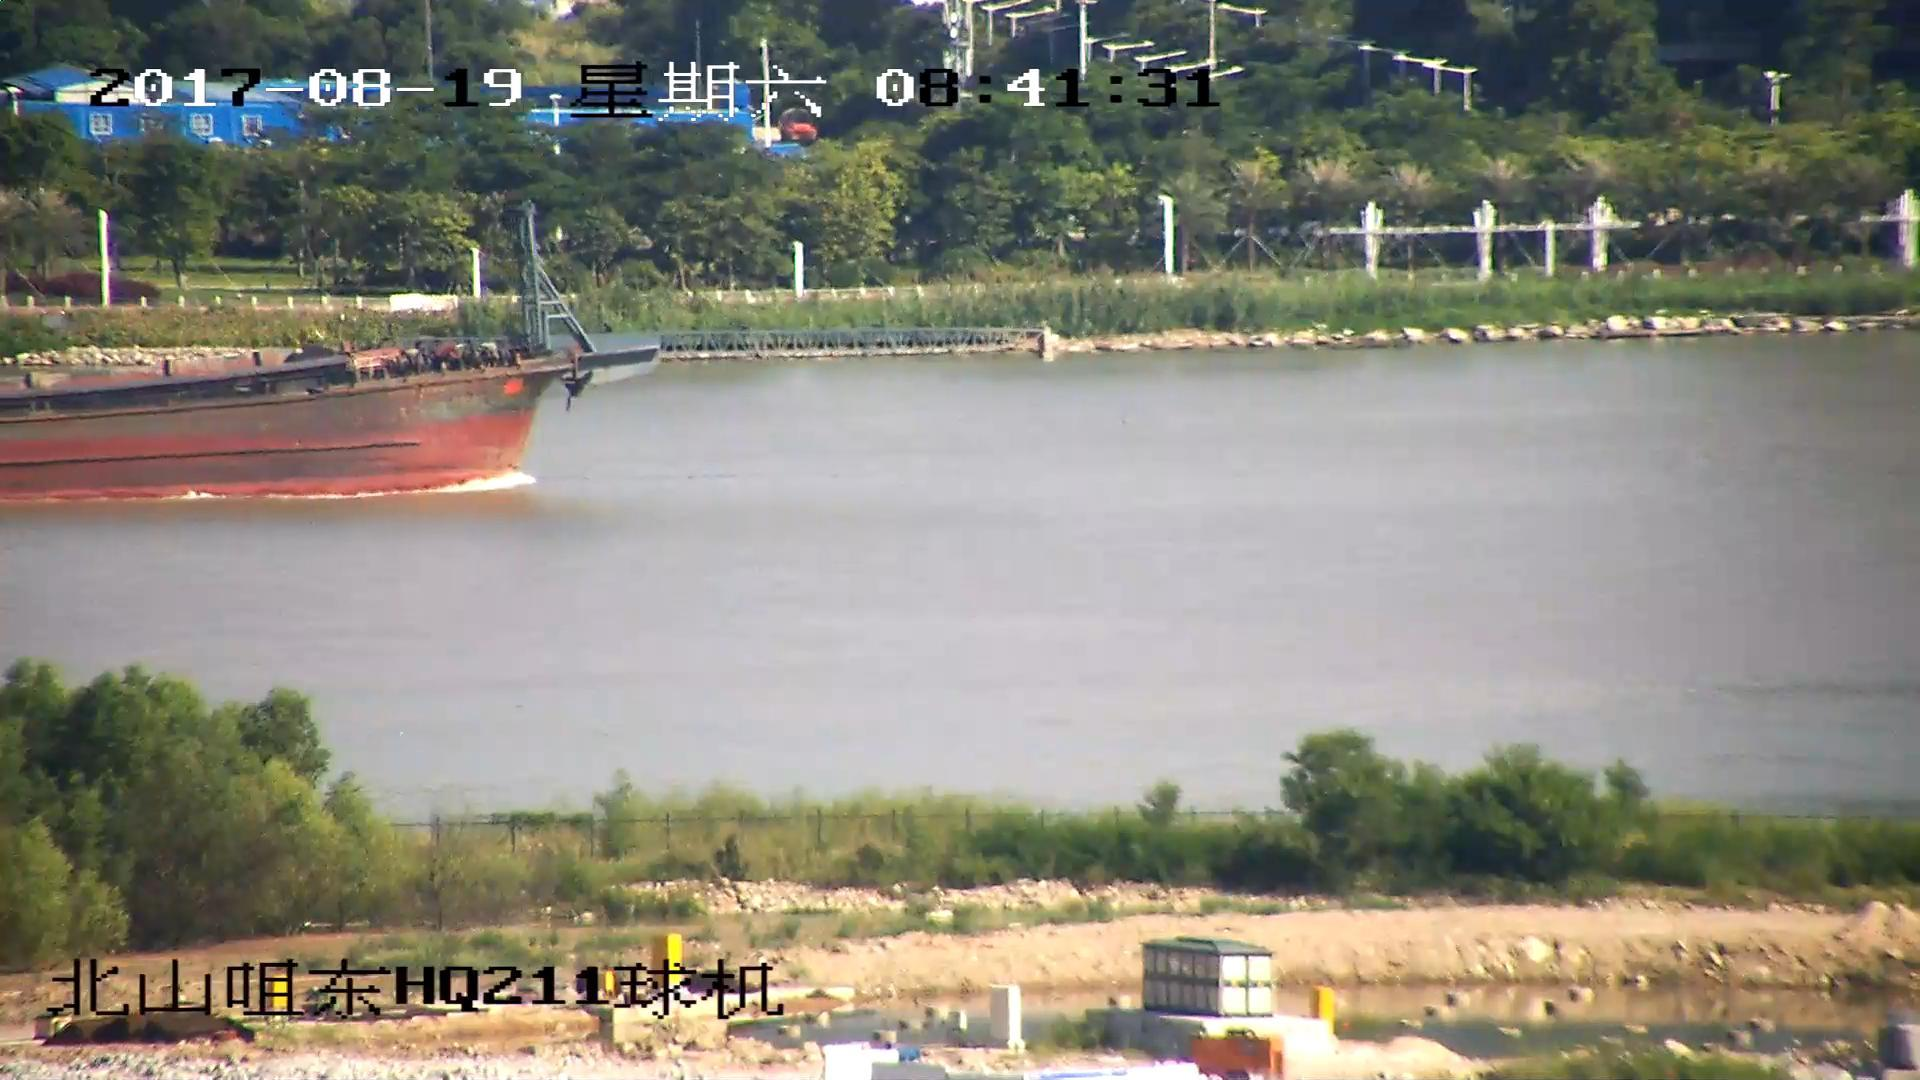Ship: (3, 204, 1022, 506)
